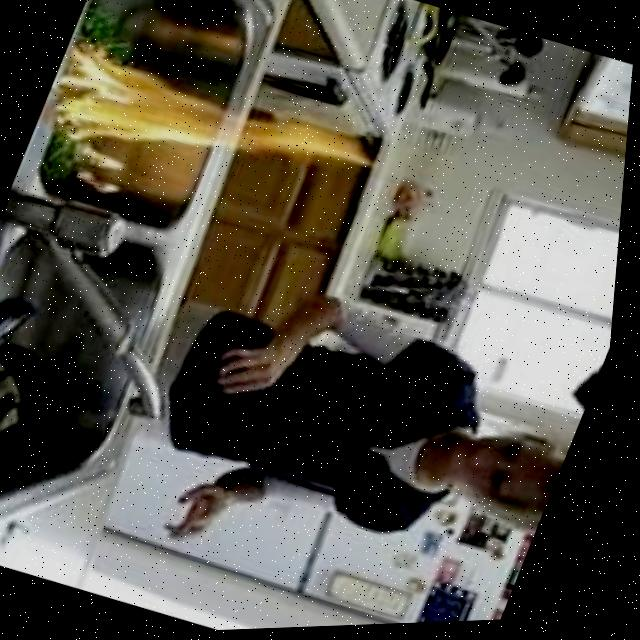Fire: (37, 31, 383, 225), (63, 143, 127, 203)
